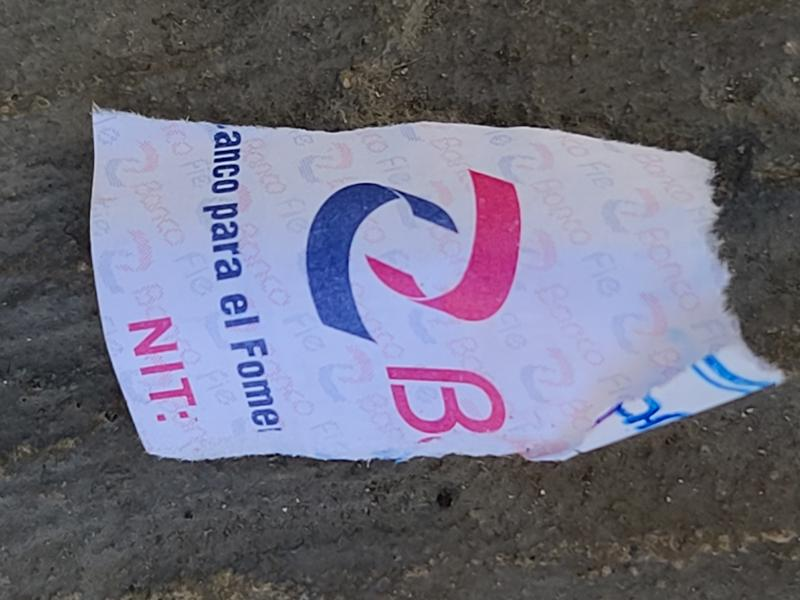papel: (87, 109, 786, 465)
